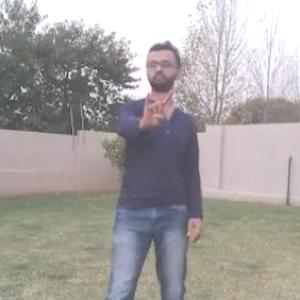takeoff-hand: (135, 74, 177, 131)
